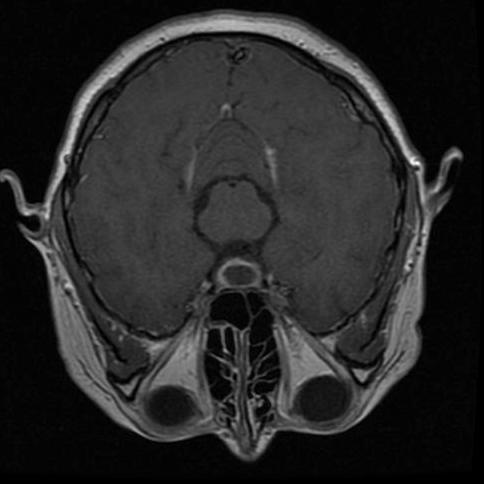Tumour-Pituitary: (217, 251, 270, 298)
